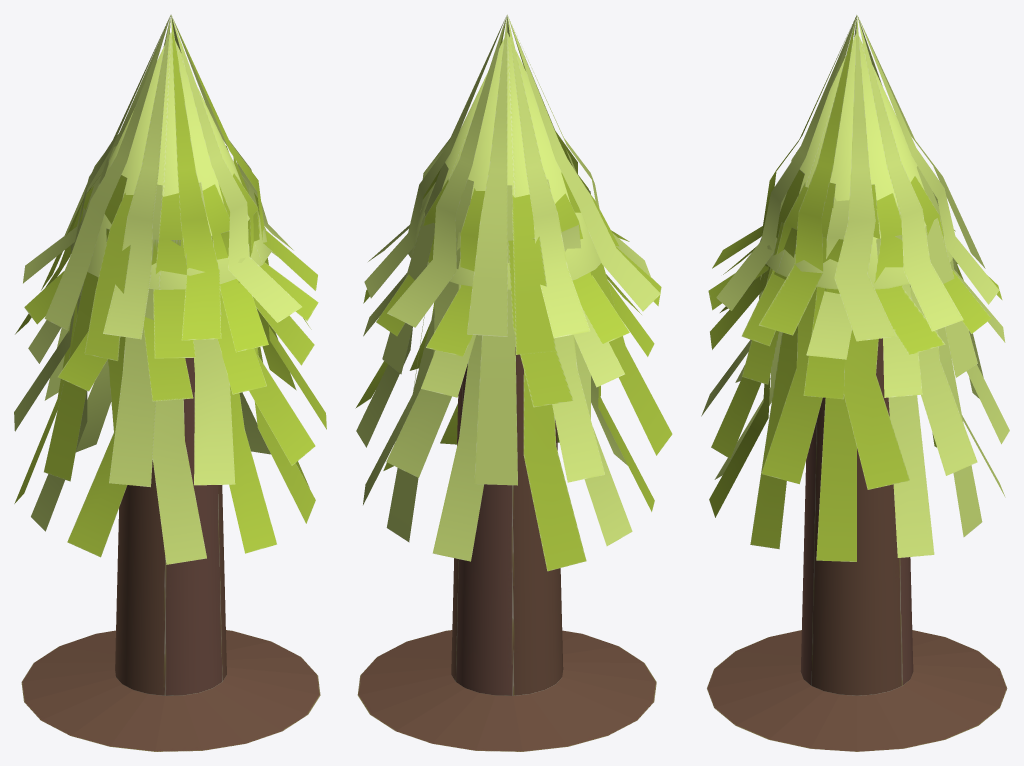
The model's file is tree.fbx.
The picture shows the model from 3 angles, left to right: view 1: azimuth 30°, elevation 25°; view 2: azimuth 150°, elevation 25°; view 3: azimuth 270°, elevation 25°; orthographic projection.
Visible parts, largest first — view 1: pCone7; view 2: pCone7; view 3: pCone7.
Part boxes in pixels (left/top/right/bottom): pCone7: left=14, top=14, right=326, bottom=751; pCone7: left=355, top=14, right=672, bottom=751; pCone7: left=701, top=15, right=1009, bottom=751.
Bounding box in the file's own units: 2.61 × 6.25 × 2.59.
Materials: 1 (1 with a texture image).
